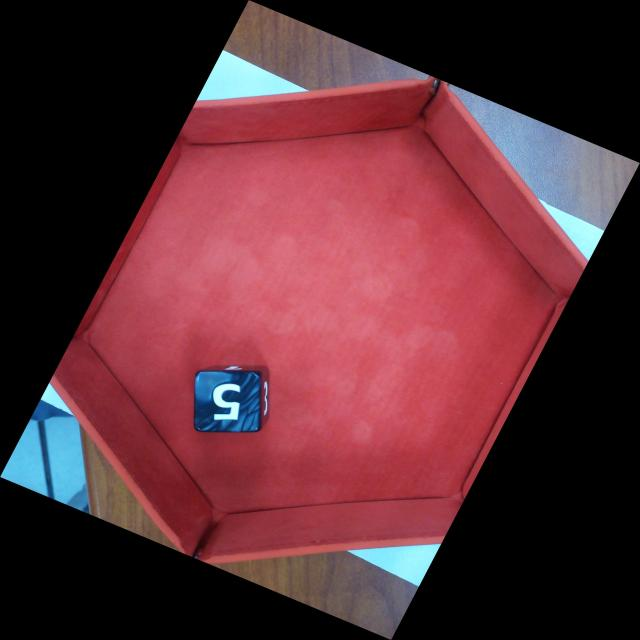dice: (194, 371, 261, 433)
